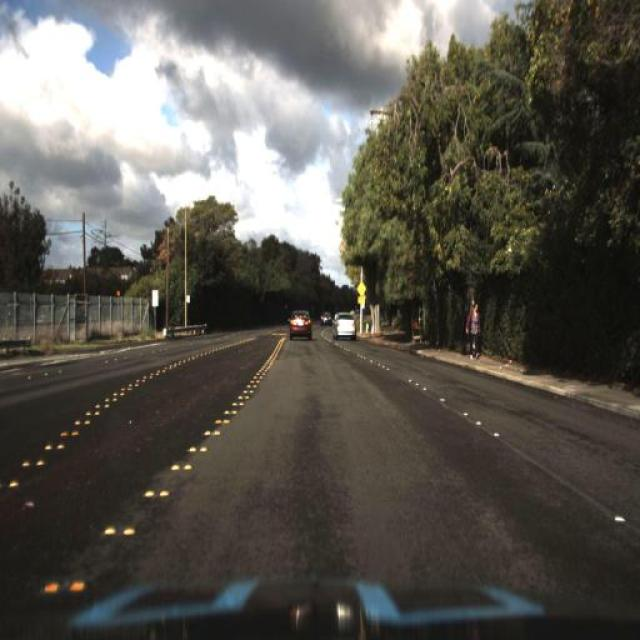car: (286, 302, 314, 344), (330, 310, 360, 346)
trafficLight: (466, 299, 480, 360)
